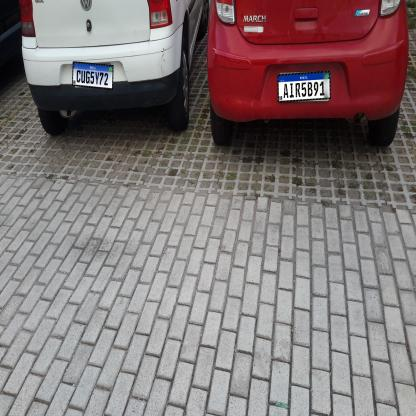PlacaM: (277, 71, 331, 102), (72, 61, 114, 90)
